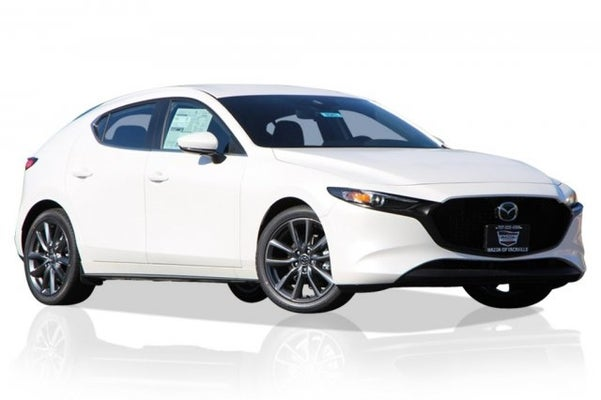Mazda3 Hatchback: (13, 82, 588, 314)
